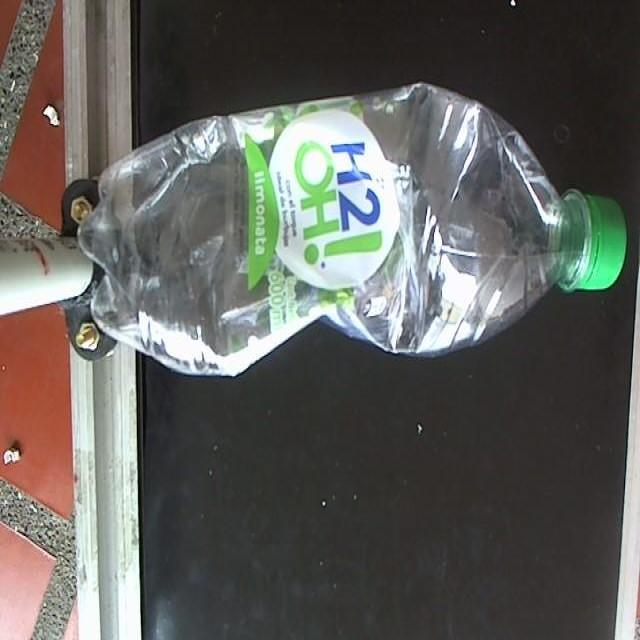defect: (74, 76, 630, 382)
